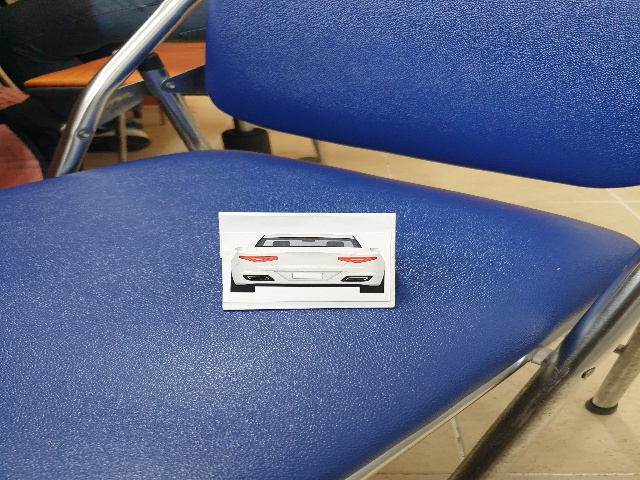Car: (227, 235, 387, 304)
